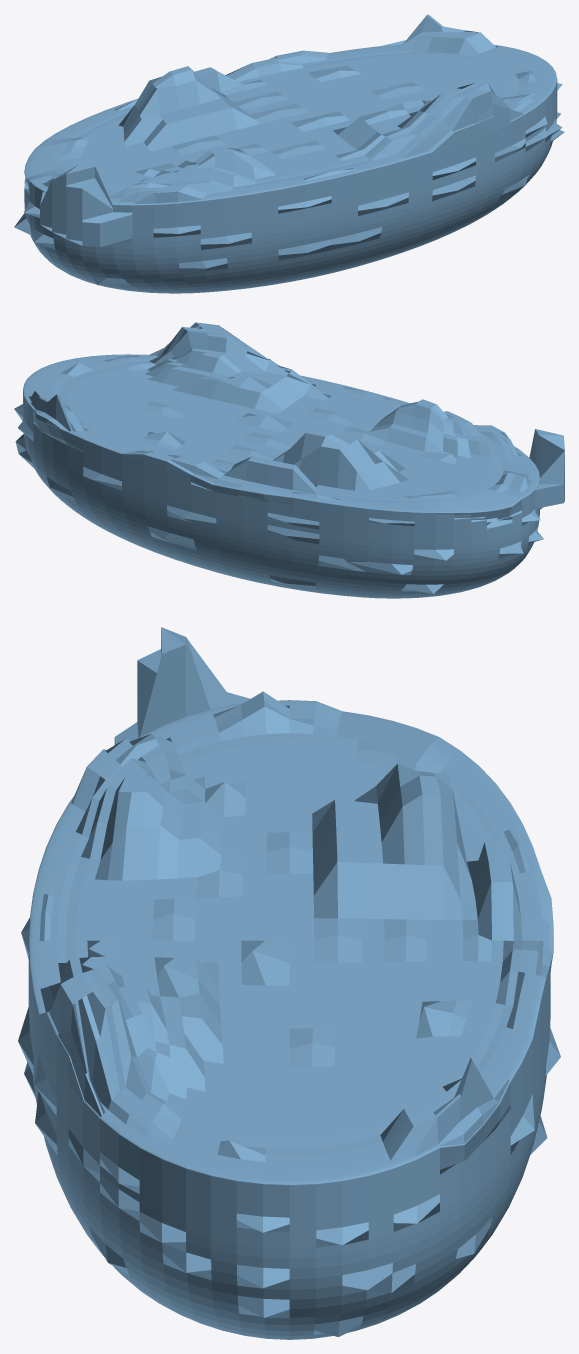
File: iceIsland2.fbx
3 views of the same model, one above another, from view 1: azimuth 30°, elevation 25°; view 2: azimuth 150°, elevation 25°; view 3: azimuth 270°, elevation 25° (orthographic). The views are drawn at different scales.
Parts seen in each view (by area): view 1: Cube; view 2: Cube; view 3: Cube.
Part boxes in pixels (bbox=[...]): Cube: bbox=[14, 14, 564, 293]; Cube: bbox=[14, 322, 564, 598]; Cube: bbox=[18, 627, 560, 1339].
Bounding box in the file's own units: 1531 × 481 × 692.
